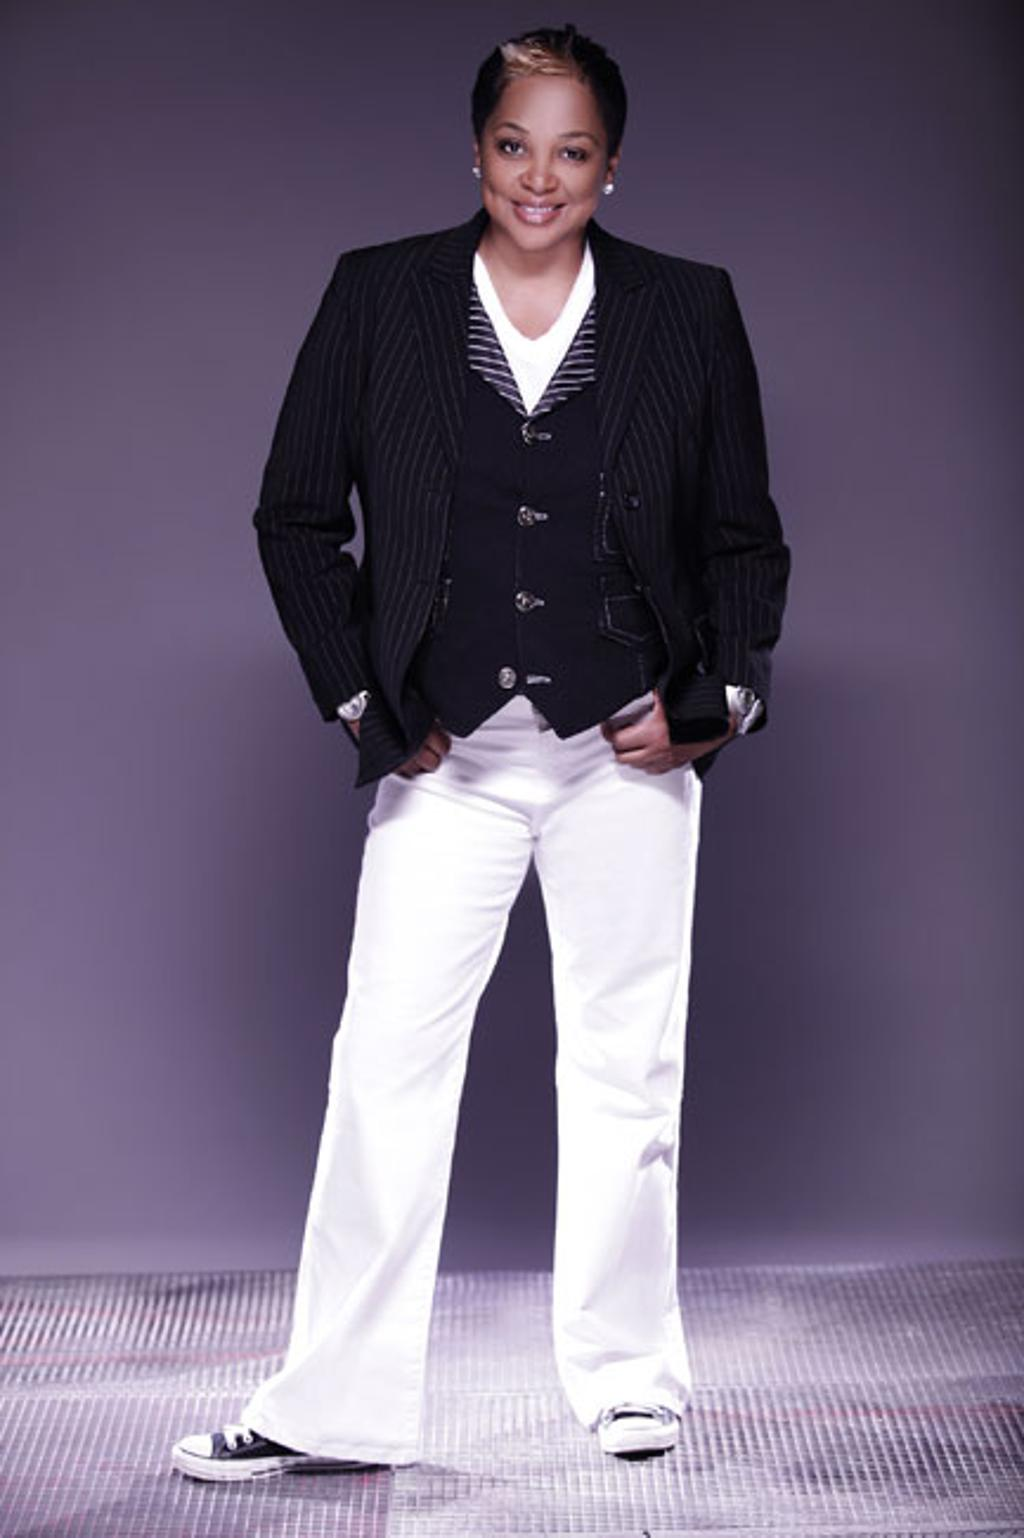face: (483, 66, 603, 252)
